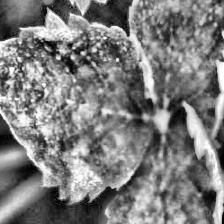Powdery Mildew Leaf: (0, 7, 158, 206), (101, 101, 224, 224), (127, 0, 224, 150)
